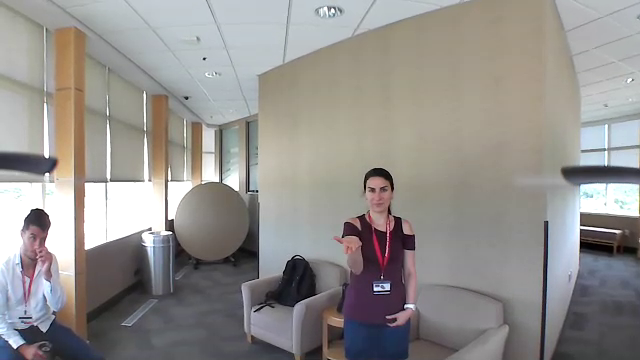land: (332, 235, 367, 257)
